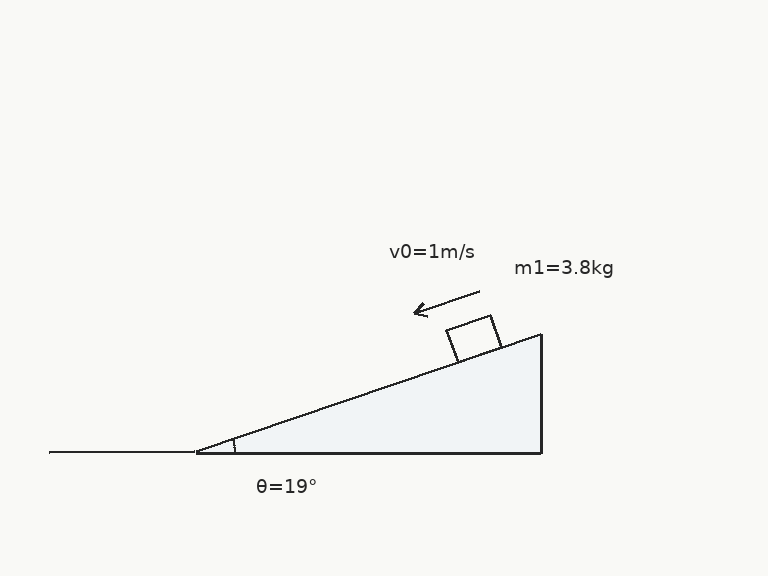block: (444, 313, 503, 364)
ramp: (193, 331, 542, 454)
